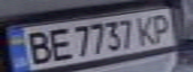3: (103, 19, 124, 52)
7: (87, 20, 109, 55), (72, 23, 93, 57), (118, 17, 139, 48)
B: (18, 28, 54, 65)
E: (42, 25, 72, 61)
K: (133, 14, 163, 45)
P: (145, 11, 178, 43)
